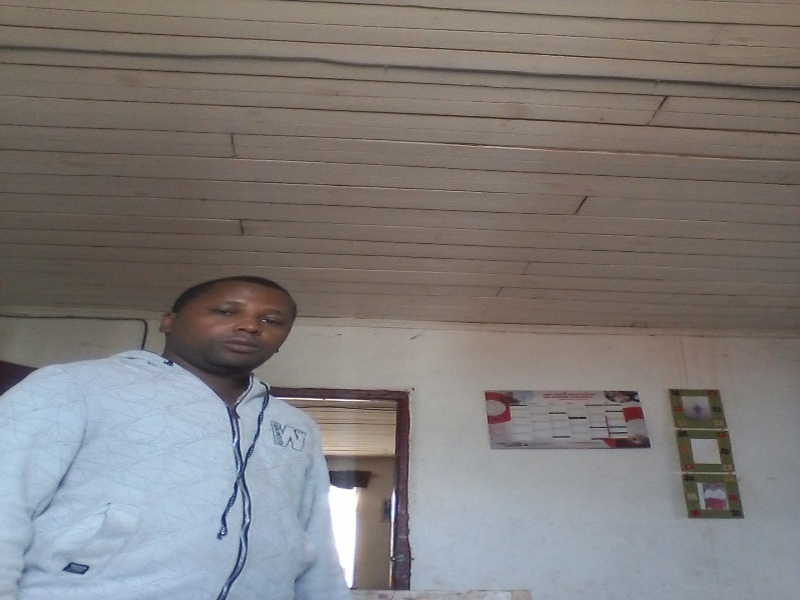TsisyArotava: (163, 275, 308, 381)
